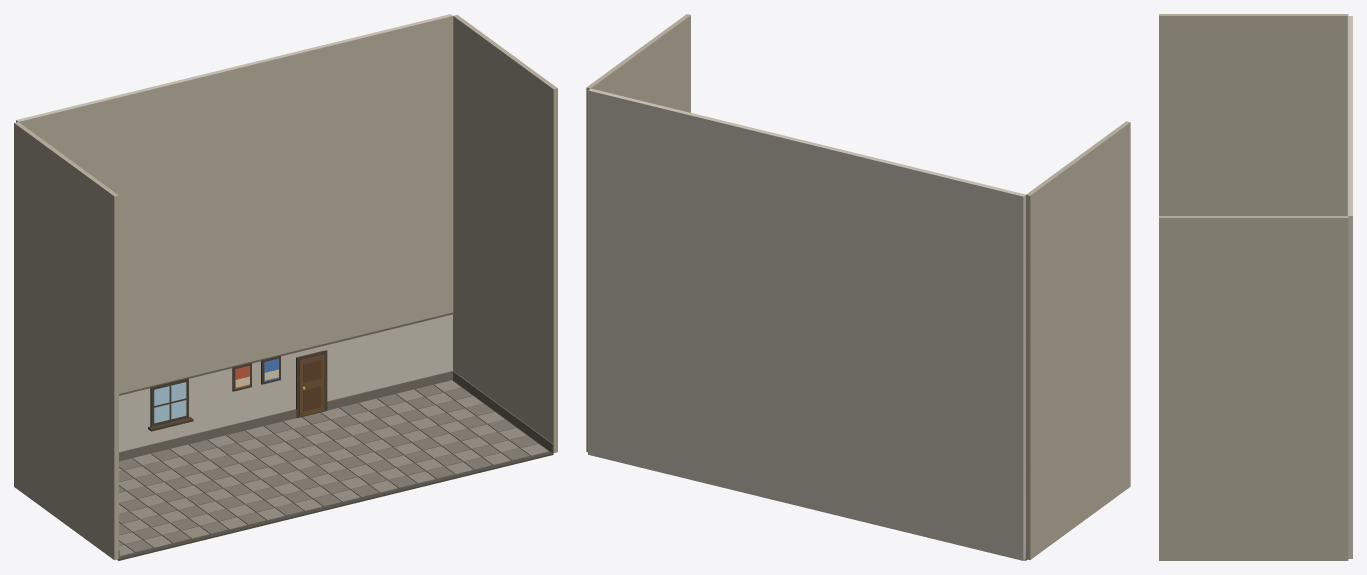
Rendered from room_europa_stone.glb.
3 views of the same model, side by side, from view 1: azimuth 30°, elevation 25°; view 2: azimuth 150°, elevation 25°; view 3: azimuth 270°, elevation 25° (orthographic). The views are drawn at different scales.
Visible parts, largest first — view 1: room; view 2: room; view 3: room.
Part boxes in pixels (x1,y1,x2,y2): room: (14, 14, 557, 560); room: (586, 14, 1130, 560); room: (1159, 14, 1352, 560).
Bounding box in the file's own units: 30.6 × 24.11 × 12.3.
